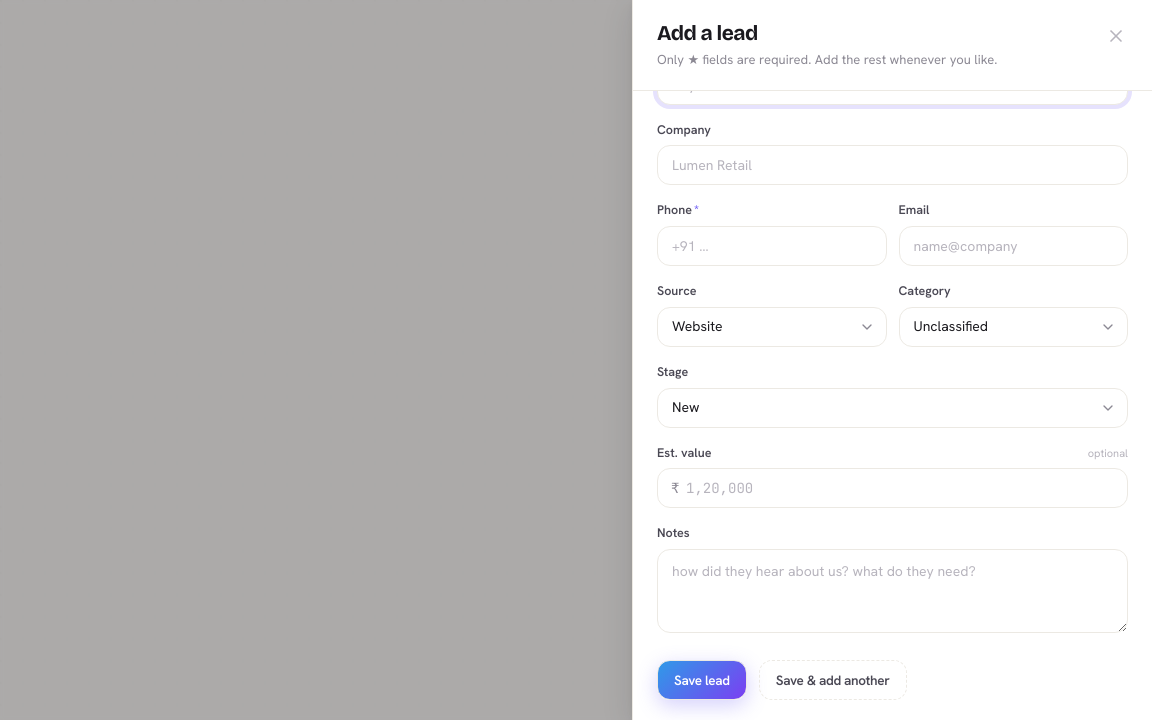
Scenario: AddLeadDrawer composer › blocks submit and shows an inline validation error when the name is empty
The image size is (1152, 720).
(page scrolled)
Click the button "Save lead" at (702, 680), box x1=657 y1=660 x2=747 y2=700
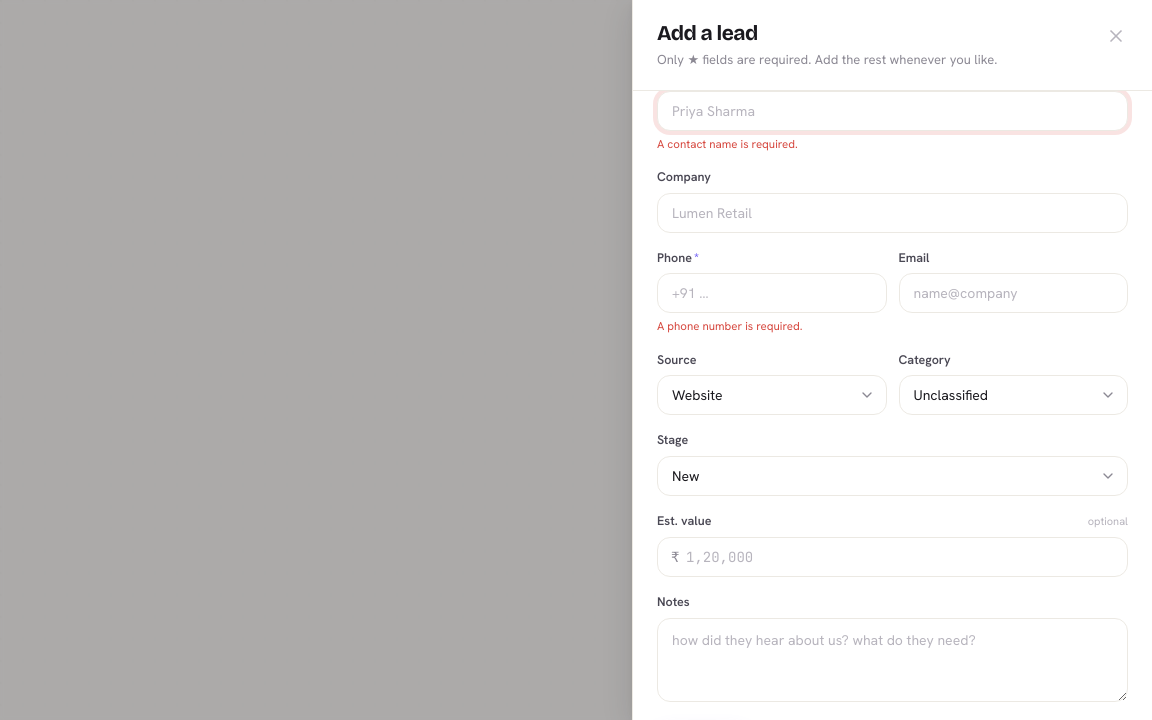
Expected: the text "A contact name is required." is shown, x1=657 y1=136 x2=798 y2=150
